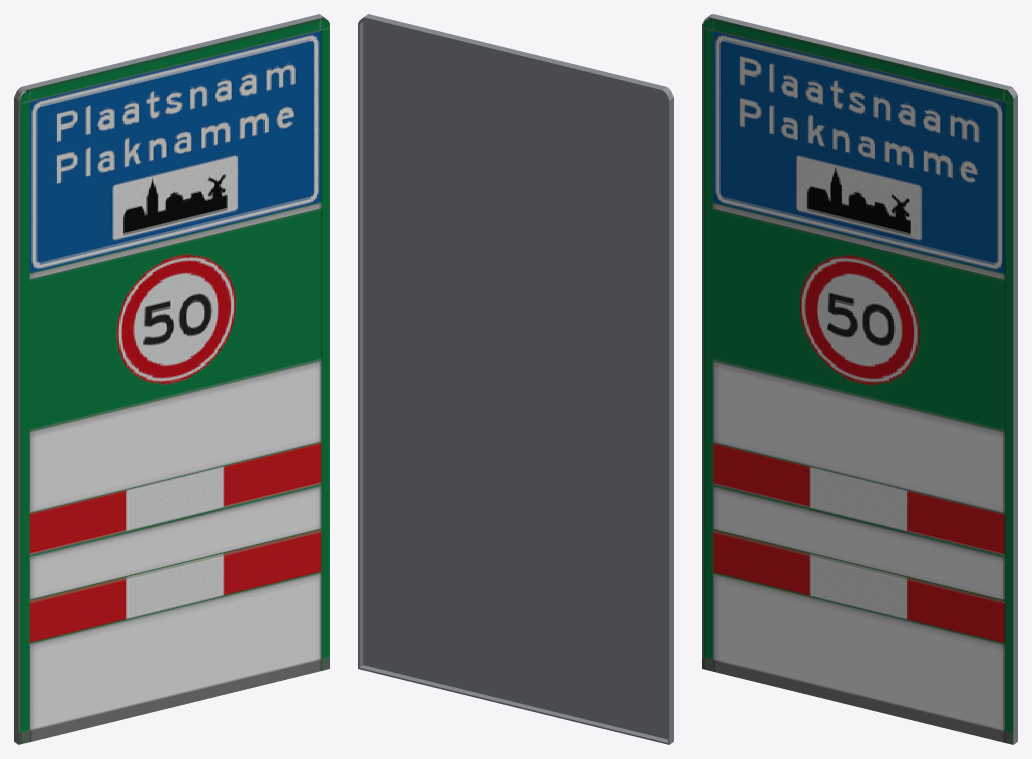
The picture shows the model from 3 angles, left to right: view 1: azimuth 30°, elevation 25°; view 2: azimuth 150°, elevation 25°; view 3: azimuth 330°, elevation 25°; orthographic projection.
Visible parts, largest first — view 1: cat_9f558a80f79e31d4; view 2: cat_9f558a80f79e31d4; view 3: cat_9f558a80f79e31d4.
Part boxes in pixels (x1,y1,x2,y2): cat_9f558a80f79e31d4: (14,14,329,744); cat_9f558a80f79e31d4: (358,14,673,744); cat_9f558a80f79e31d4: (702,14,1017,744).
Size of the model in its own units: 0.6 by 0.015 by 1.2.
Materials: 2 (1 with a texture image).
